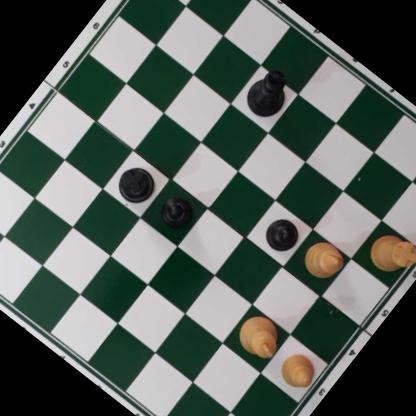black-king: (239, 61, 300, 124)
black-pawn: (259, 211, 307, 260), (153, 189, 201, 237)
black-rook: (110, 160, 163, 212)
white-bishop: (295, 233, 351, 288)
white-king: (230, 308, 289, 366)
white-pawn: (274, 346, 323, 394)
white-rook: (363, 224, 416, 285)
